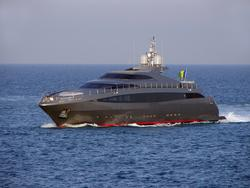yacht: (37, 37, 228, 129)
